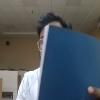notebook: (36, 24, 99, 99)
